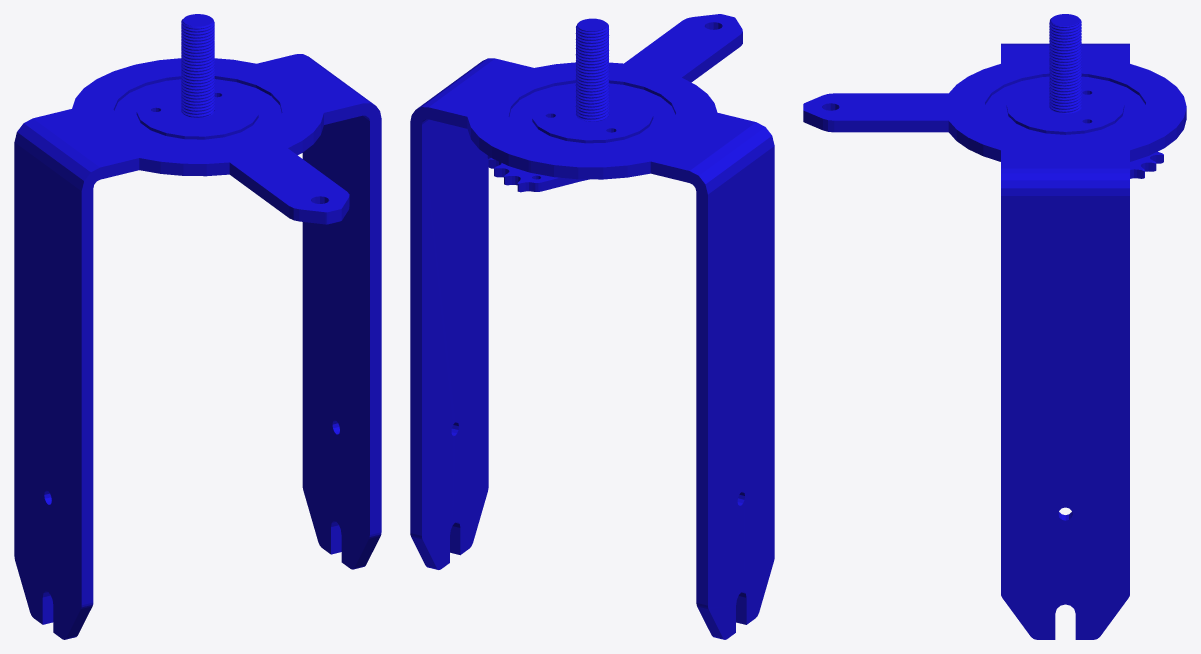
The model's file is wheel-support.dae.
3 views of the same model, side by side, from view 1: azimuth 30°, elevation 25°; view 2: azimuth 150°, elevation 25°; view 3: azimuth 270°, elevation 25° (orthographic). The views are drawn at different scales.
Parts seen in each view (by area): view 1: base_link; view 2: base_link; view 3: base_link.
Boxes of the visible parts, left/top/right/bottom form: base_link: left=14, top=14, right=381, bottom=639; base_link: left=410, top=14, right=774, bottom=639; base_link: left=803, top=14, right=1186, bottom=639.
Size of the model in its own units: 0.206 by 0.2373 by 0.3754.
